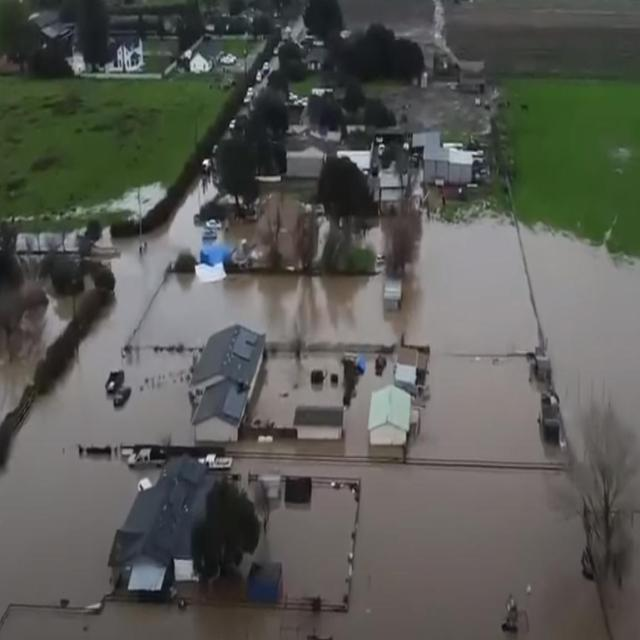flood: (0, 214, 607, 640), (0, 183, 214, 613), (522, 226, 640, 453), (253, 484, 356, 604), (0, 293, 71, 421), (247, 353, 342, 428), (87, 181, 166, 219)
house: (107, 452, 218, 600), (185, 321, 268, 449), (366, 382, 415, 462), (422, 136, 476, 192), (291, 405, 346, 442), (285, 134, 326, 180), (108, 36, 144, 76), (189, 42, 217, 82)
